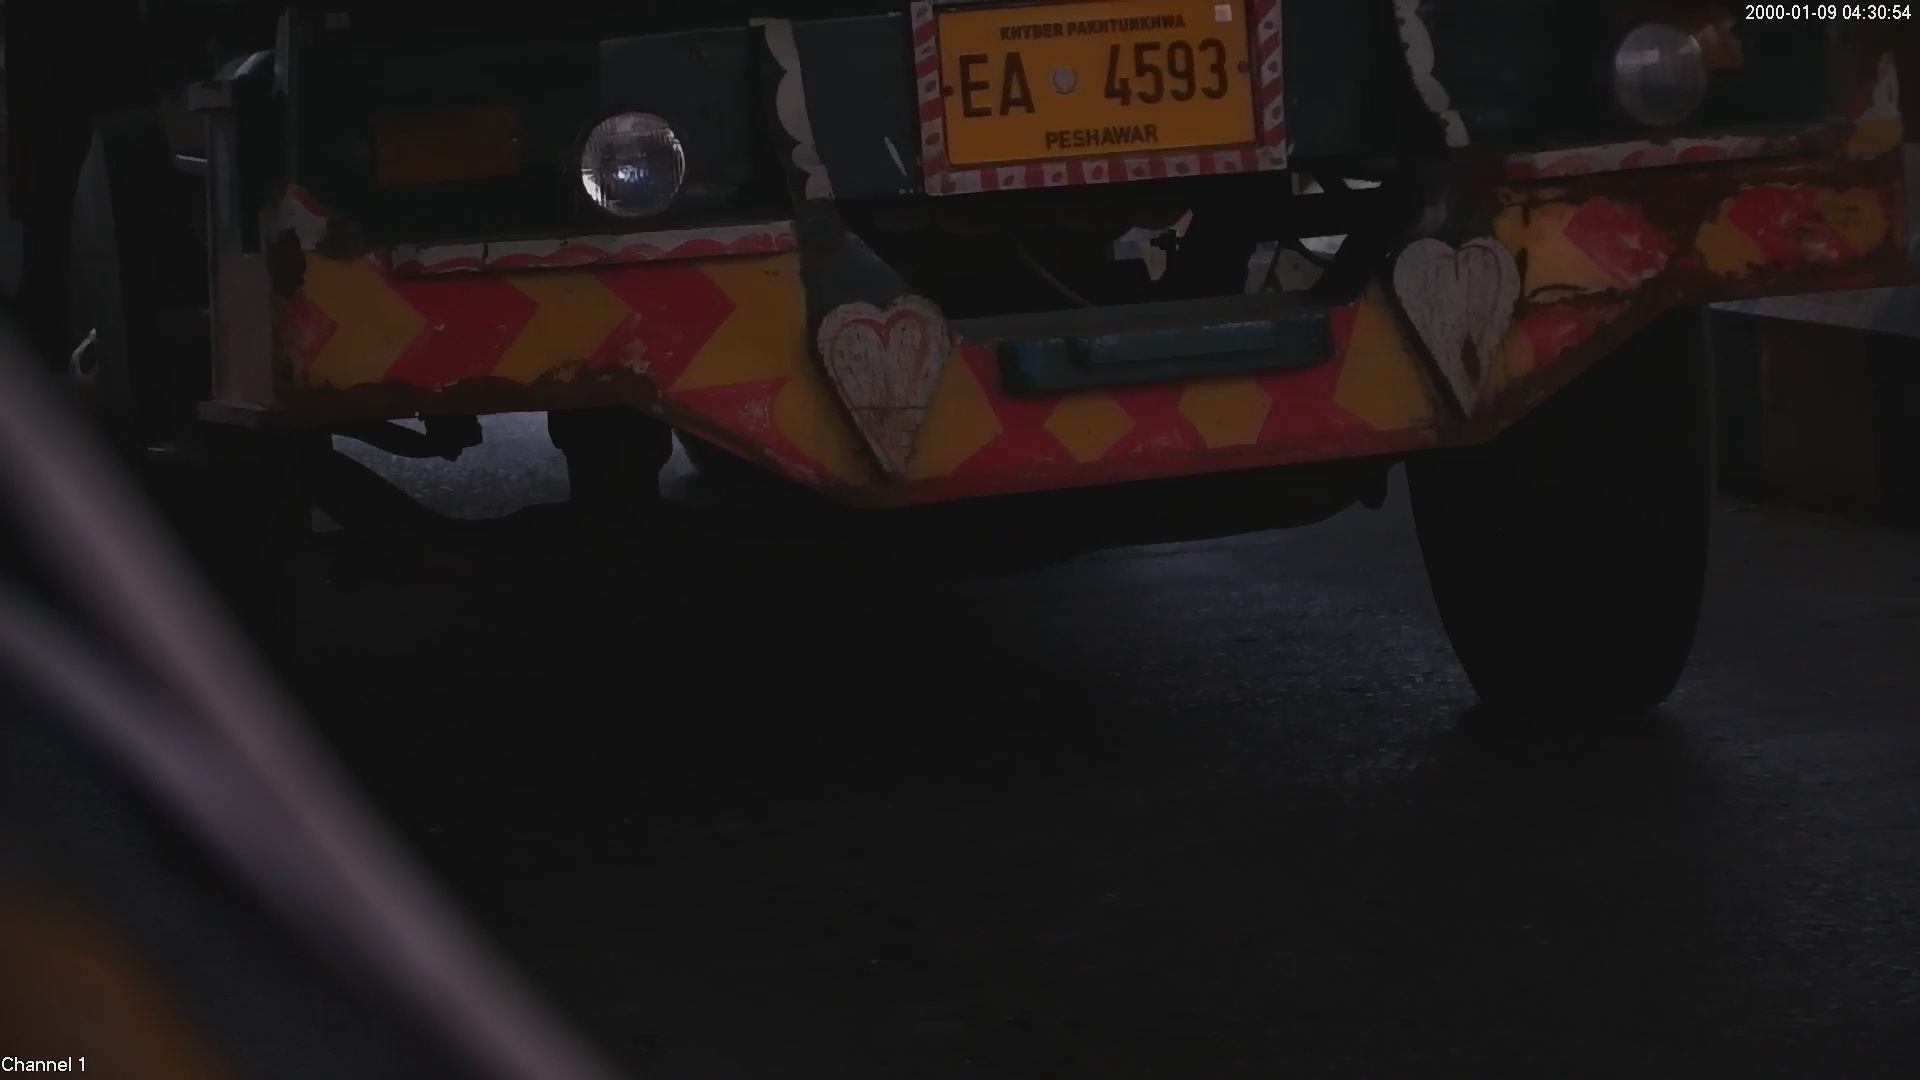Number_Plate: (934, 3, 1284, 168)
